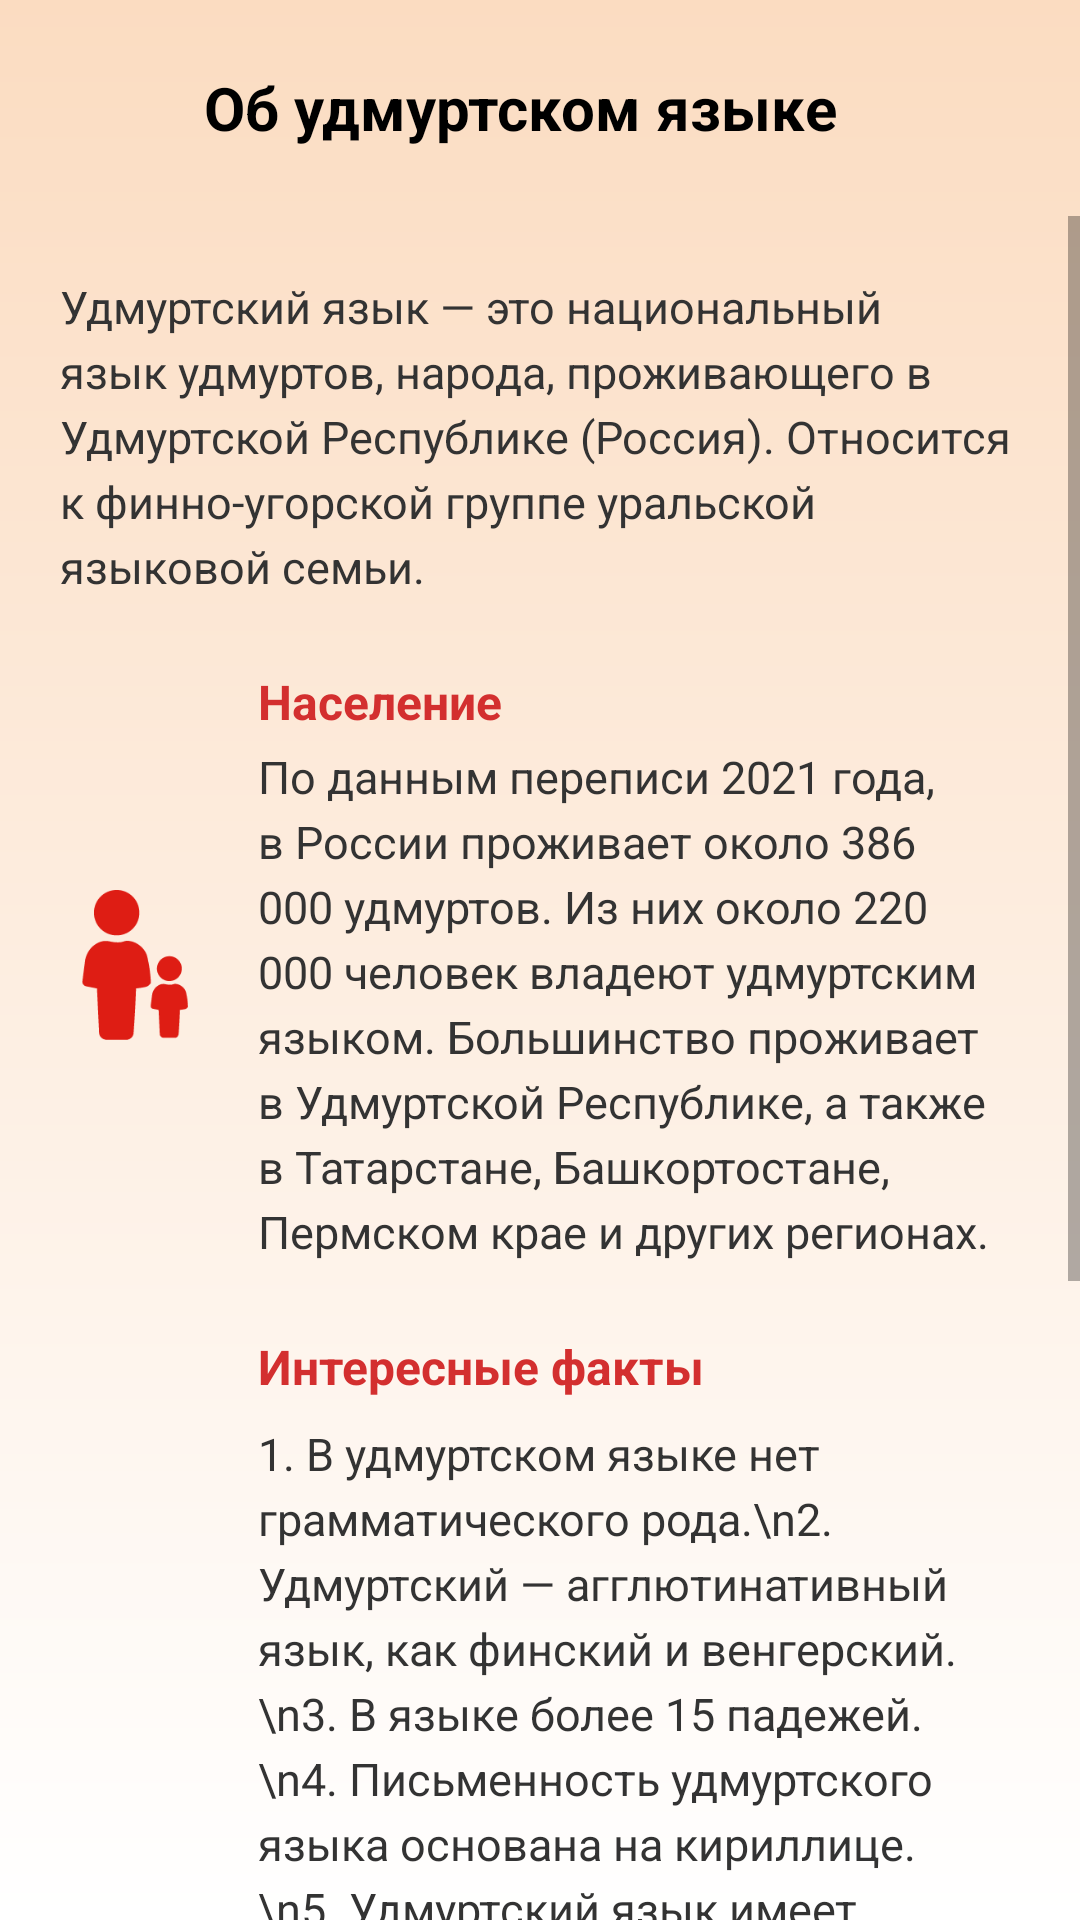

Locate icon controls on the screen. Image size 1080px x 1920px, boxes as (x1, y1, x2, y2).
people: (82, 890, 188, 1040)
